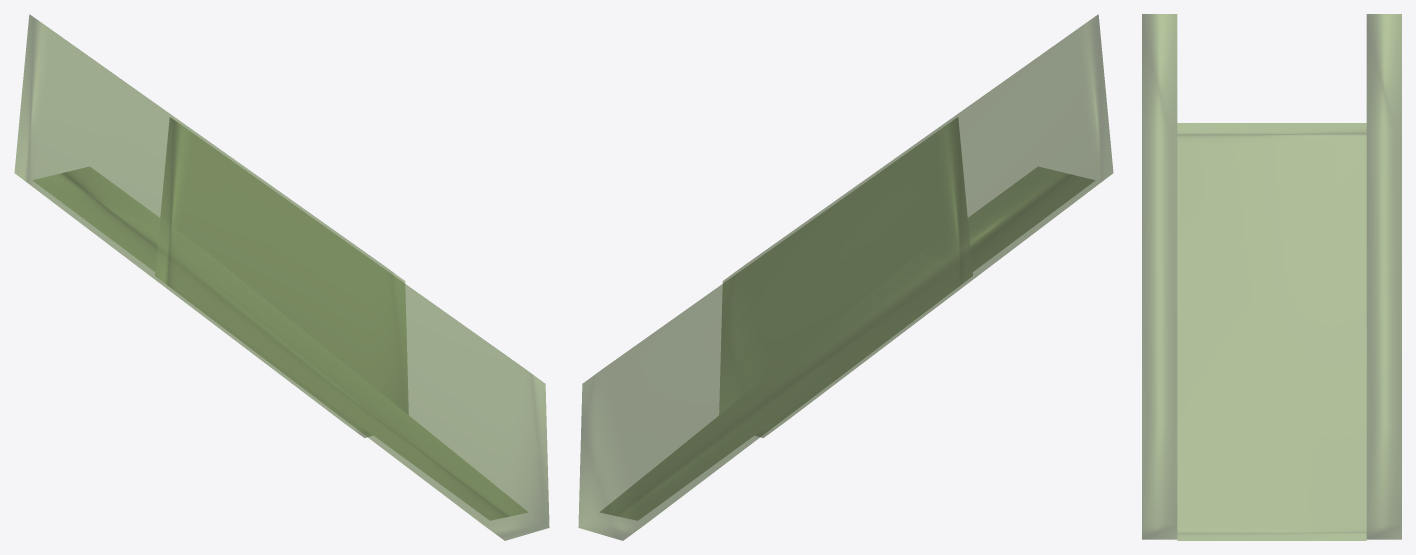
The model's file is stairs_full_COL.fbx.
3 views of the same model, side by side, from view 1: azimuth 30°, elevation 25°; view 2: azimuth 150°, elevation 25°; view 3: azimuth 270°, elevation 25° (orthographic). The views are drawn at different scales.
Visible parts, largest first — view 1: stairs_full_COL; view 2: stairs_full_COL; view 3: stairs_full_COL.
Boxes of the visible parts, box(x1,y1,x2,y2) form: stairs_full_COL: box(14, 14, 549, 540); stairs_full_COL: box(578, 14, 1113, 540); stairs_full_COL: box(1142, 14, 1401, 540).
Bounding box in the file's own units: 467 × 571 × 347.
